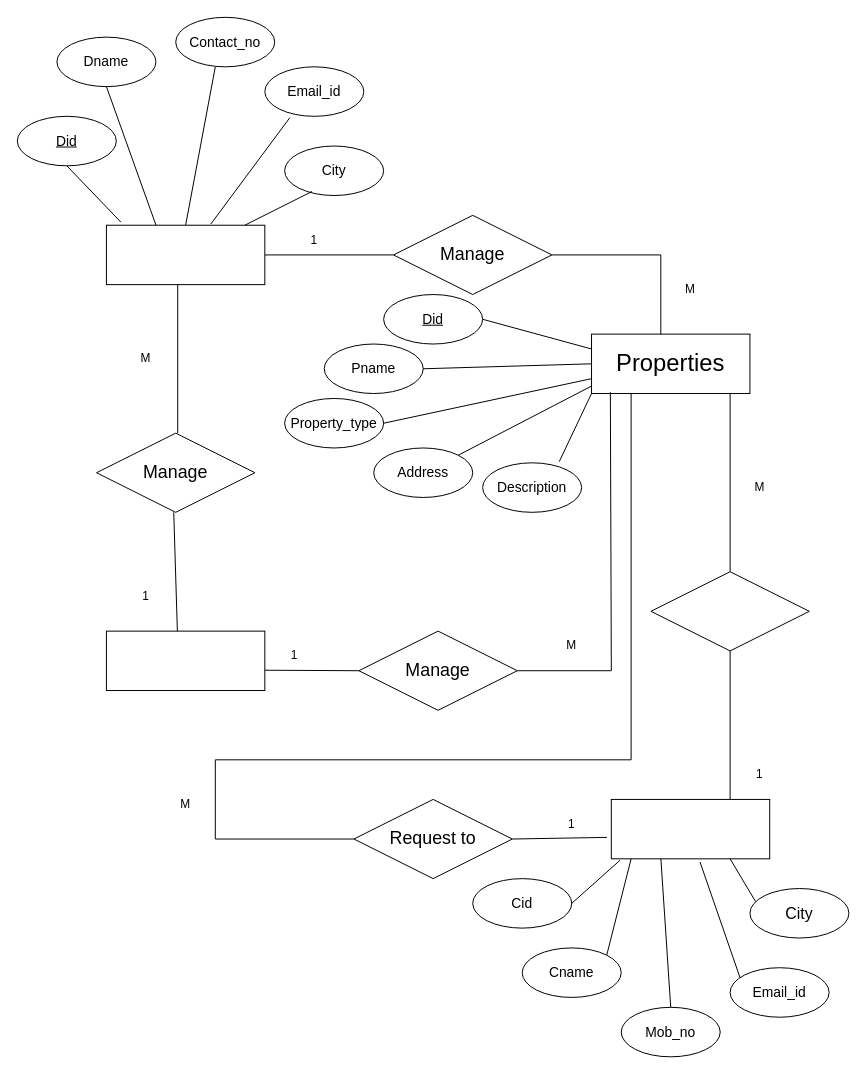
Image size: 866x1074. Some labels were removed from this diagram. The shapes that lost their labels are listed below. From the top down, each one's centre as x and y in pixels, then its label:
[185,254]: Developer
[729,611]: Show
[185,660]: Admin
[690,828]: Customer
